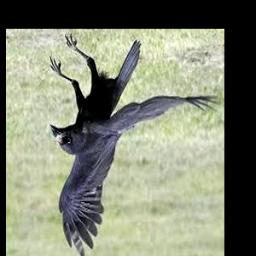Crow: (49, 35, 218, 256)
